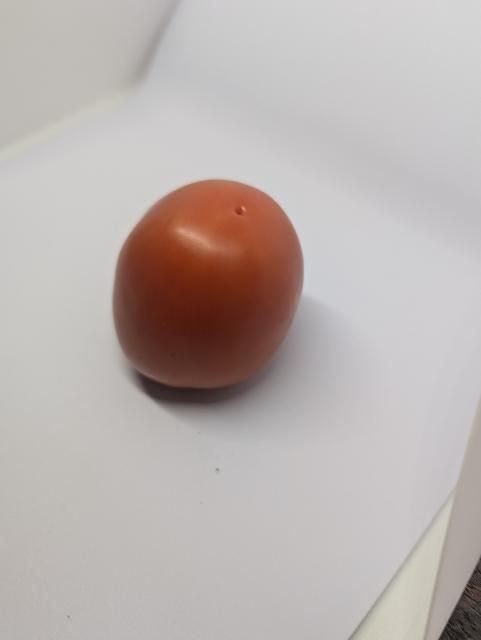red: (101, 176, 341, 411)
